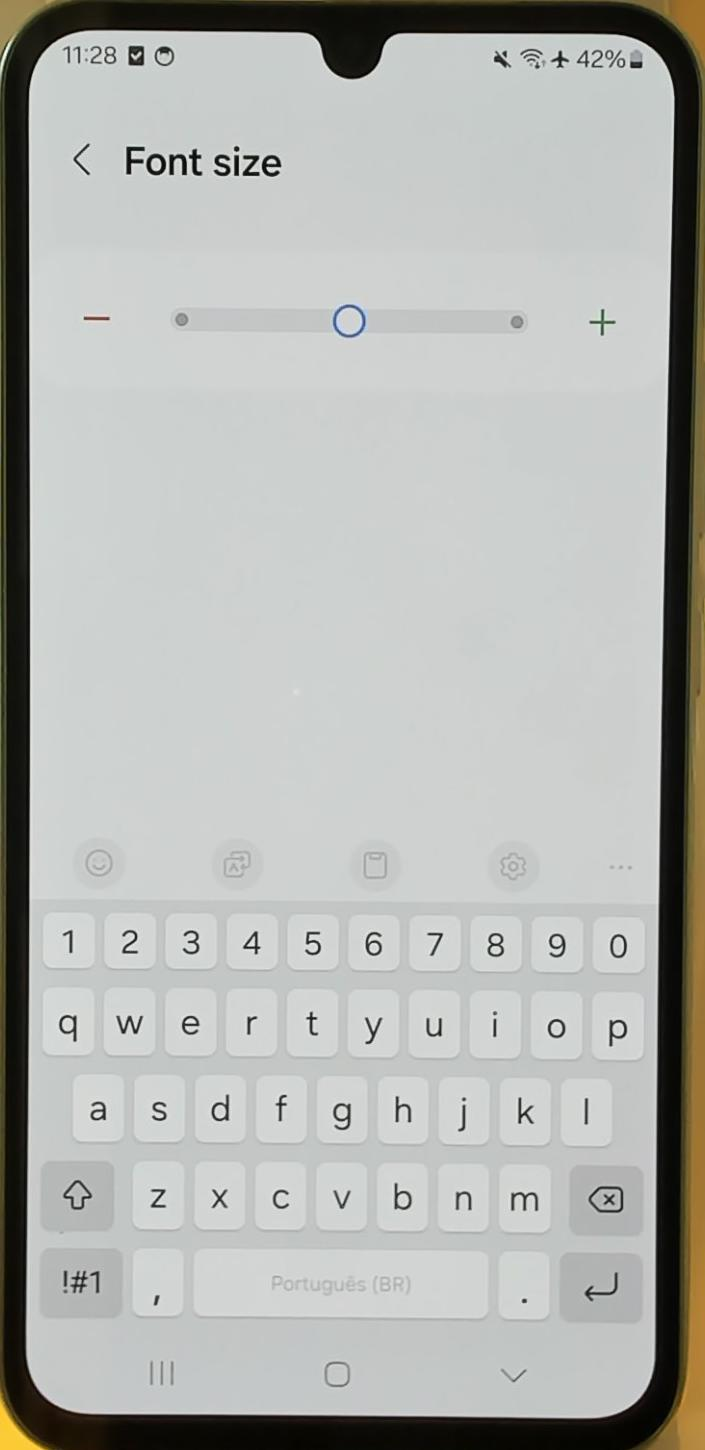CommunBotton: (72, 288, 122, 340), (576, 296, 626, 348), (66, 128, 102, 188)
TextKeyboard: (28, 896, 654, 1332)
